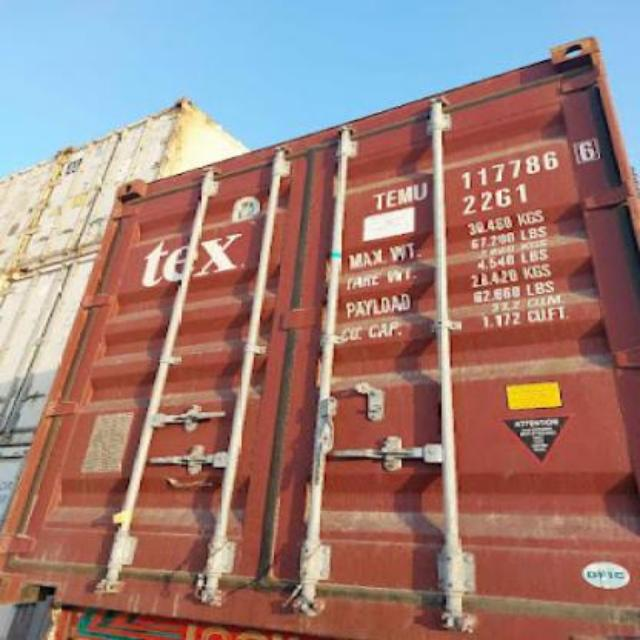1: (460, 170, 472, 190), (476, 167, 489, 185)
6: (542, 152, 562, 170), (578, 142, 594, 160)
7: (506, 158, 524, 178), (490, 162, 506, 182)
8: (524, 156, 542, 174)
E: (386, 190, 398, 206)
M: (400, 186, 412, 204)
T: (372, 192, 386, 210)
U: (416, 183, 428, 201)
